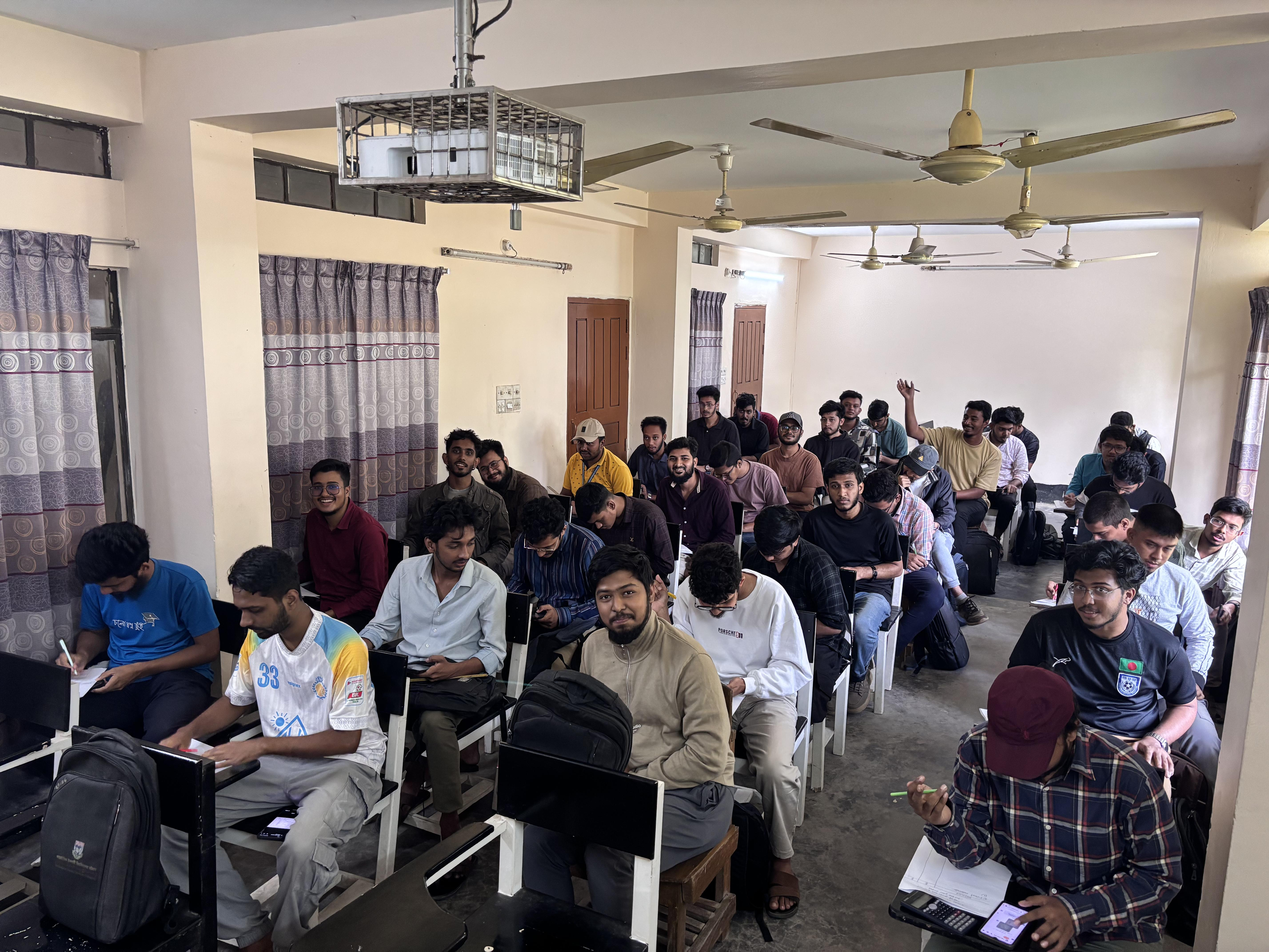copying: (368, 501, 515, 774)
no_cheating: (180, 545, 372, 882), (1011, 533, 1222, 769), (558, 540, 708, 839), (41, 510, 224, 725), (668, 523, 798, 753), (499, 495, 605, 639), (288, 452, 374, 592), (734, 498, 823, 627), (1123, 502, 1199, 642), (804, 452, 884, 585), (569, 483, 668, 561), (1077, 452, 1176, 517), (708, 438, 788, 518), (561, 413, 625, 503), (654, 437, 719, 522), (762, 404, 824, 492), (979, 399, 1039, 487), (1073, 423, 1150, 481), (684, 382, 734, 450), (625, 409, 678, 473), (724, 384, 766, 442), (810, 399, 851, 453), (835, 383, 869, 437), (865, 395, 892, 435)
side_talking: (1187, 481, 1269, 620), (413, 425, 537, 514), (922, 382, 1008, 504)
using_phone: (892, 649, 1187, 952)
